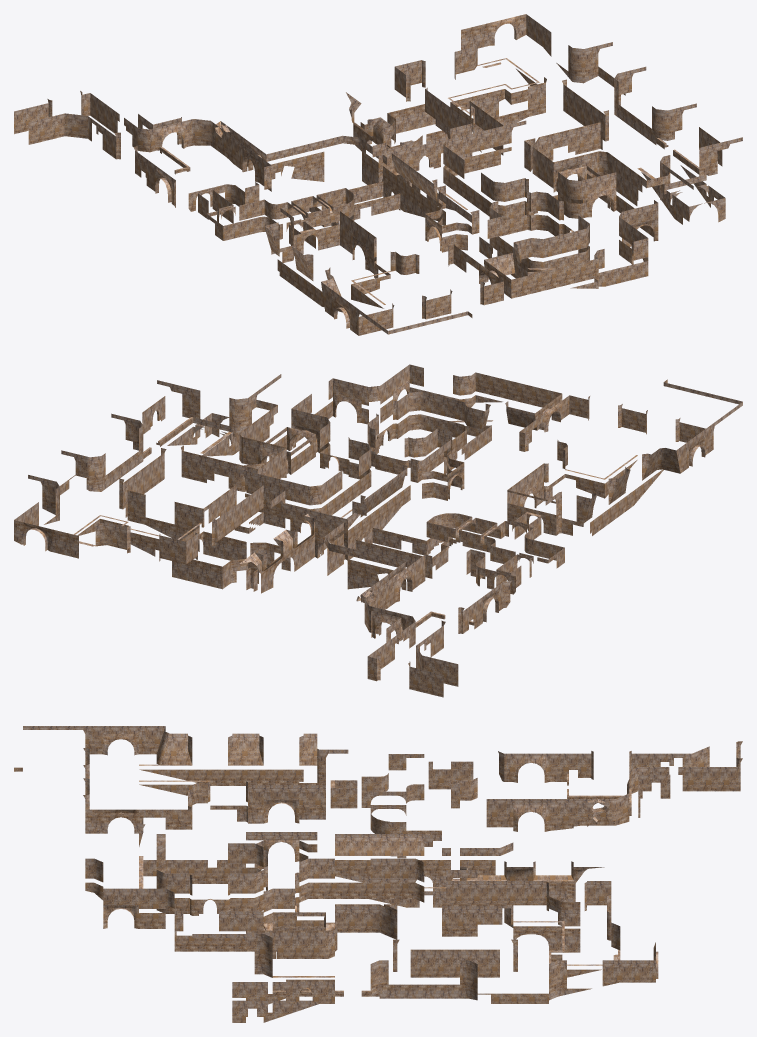
3 renders of one model, top to bottom at view 1: azimuth 30°, elevation 25°; view 2: azimuth 150°, elevation 25°; view 3: azimuth 270°, elevation 25°, orthographic. The views are drawn at different scales.
Parts seen in each view (by area): view 1: Object_29; view 2: Object_29; view 3: Object_29.
Boxes of the visible parts, bbox=[...] form: Object_29: bbox=[14, 14, 742, 335]; Object_29: bbox=[14, 364, 742, 697]; Object_29: bbox=[14, 726, 742, 1022].
Size of the model in its own units: 59.73 by 7.68 by 69.76.
1 material, 1 textured.
